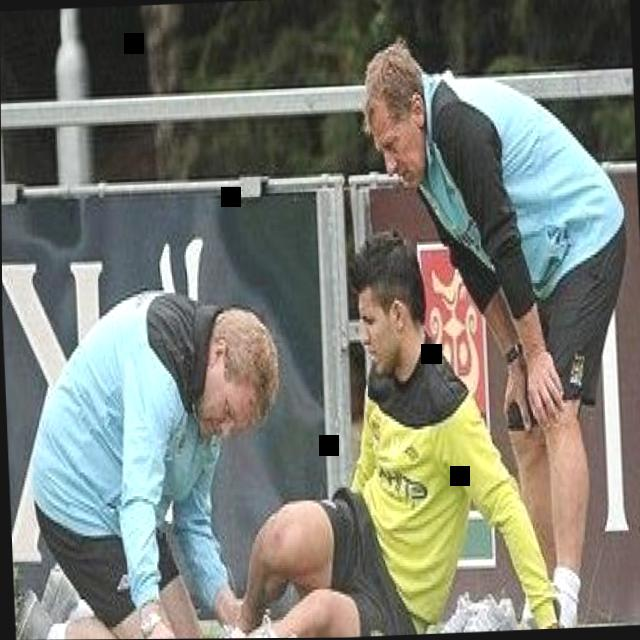Fall-Detected: (154, 204, 576, 639)
